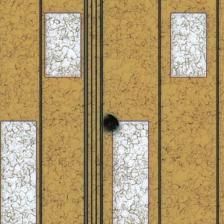PARTICLE: (102, 114, 122, 134)
